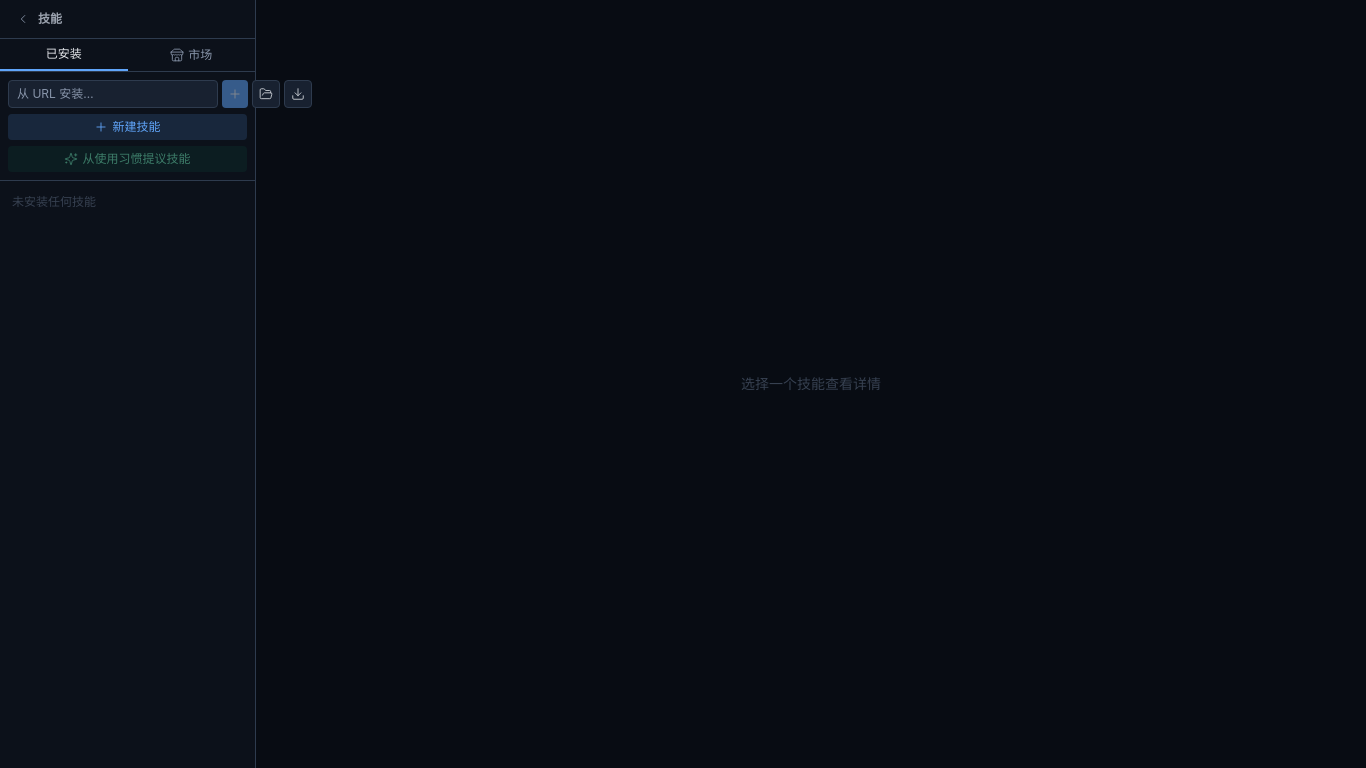
Scenario: Skill lifecycle continuity › blocks approval and requires re-review when content changes after display
Type "https://example.com/skill.json" into the field with placeholder "从 URL 安装…" at (113, 94), box x1=8 y1=80 x2=218 y2=108
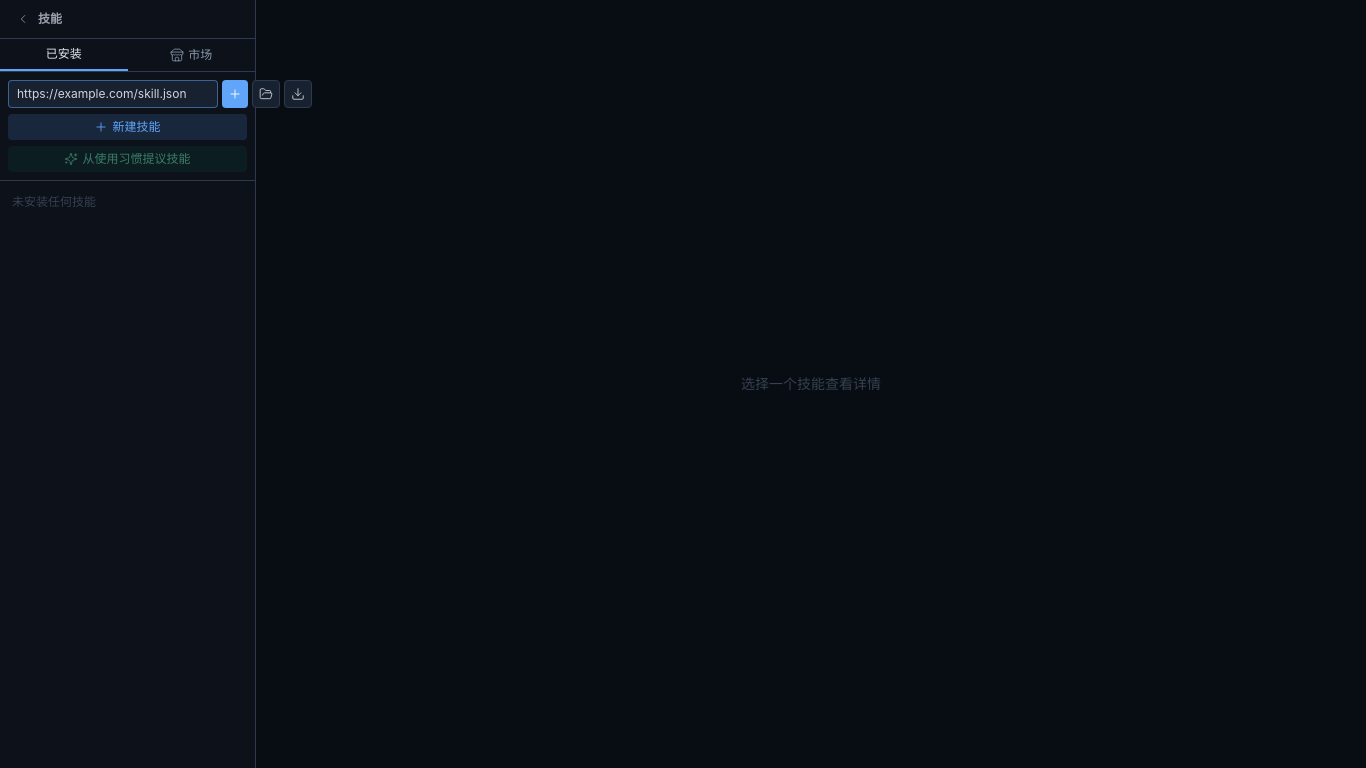
Click the button titled "从 URL 安装技能" at (235, 94), box x1=222 y1=80 x2=248 y2=108
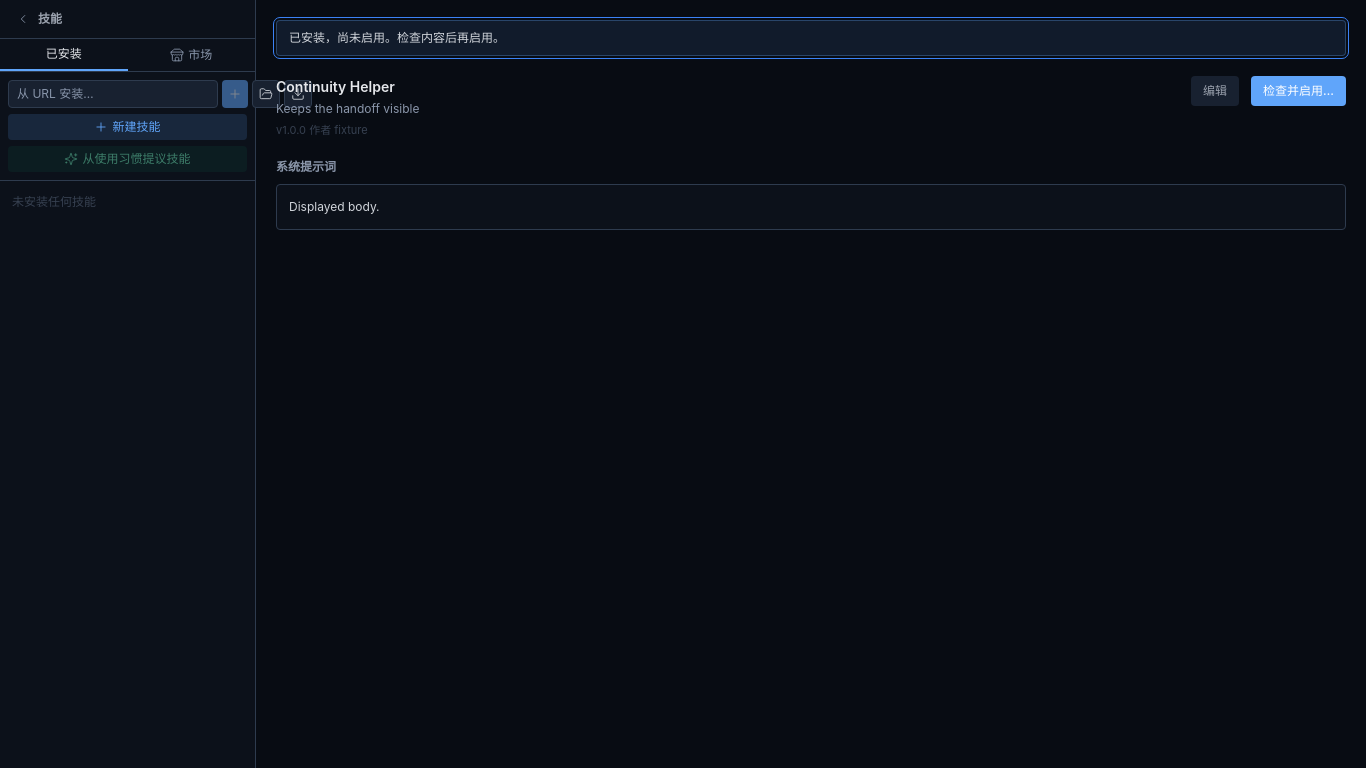
Click the button "检查并启用…" at (1299, 91), box x1=1251 y1=76 x2=1346 y2=106
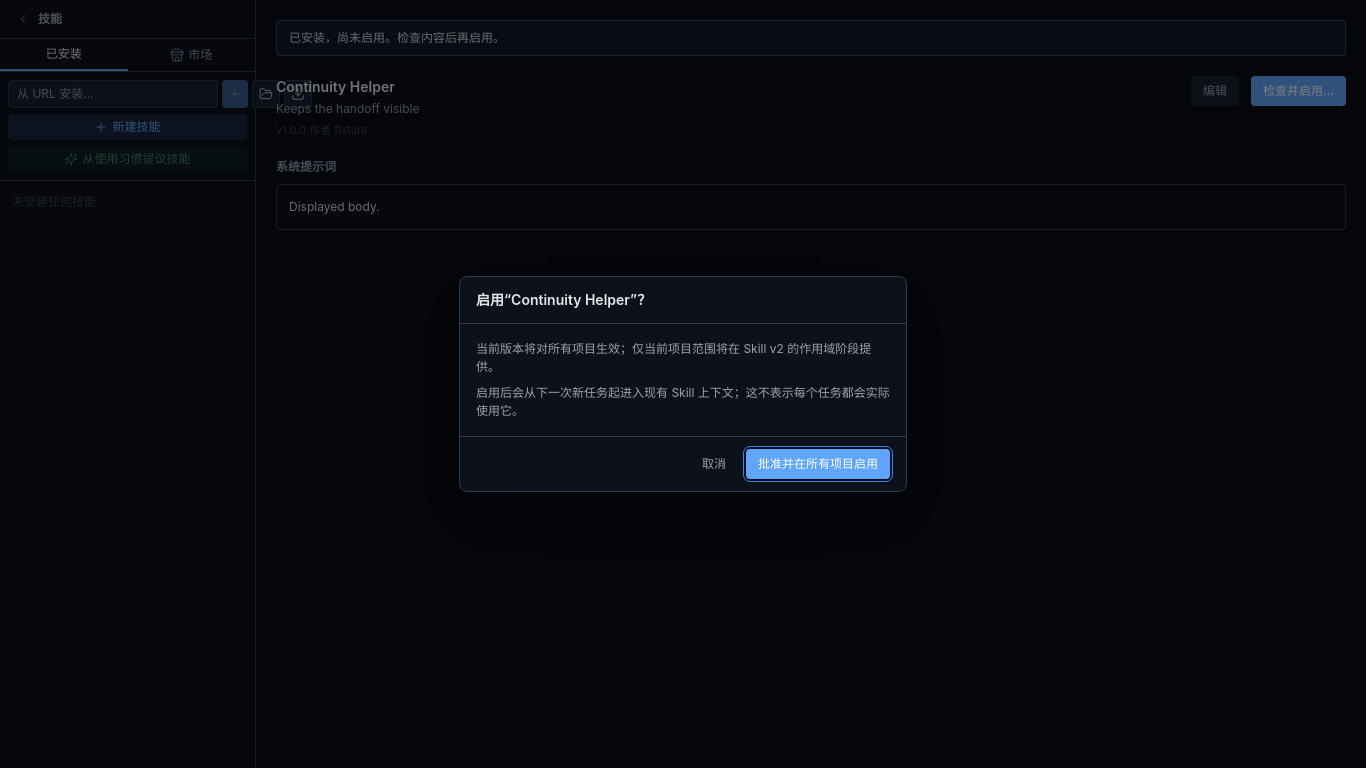
Click the button "批准并在所有项目启用" at (818, 464), box x1=746 y1=449 x2=890 y2=479
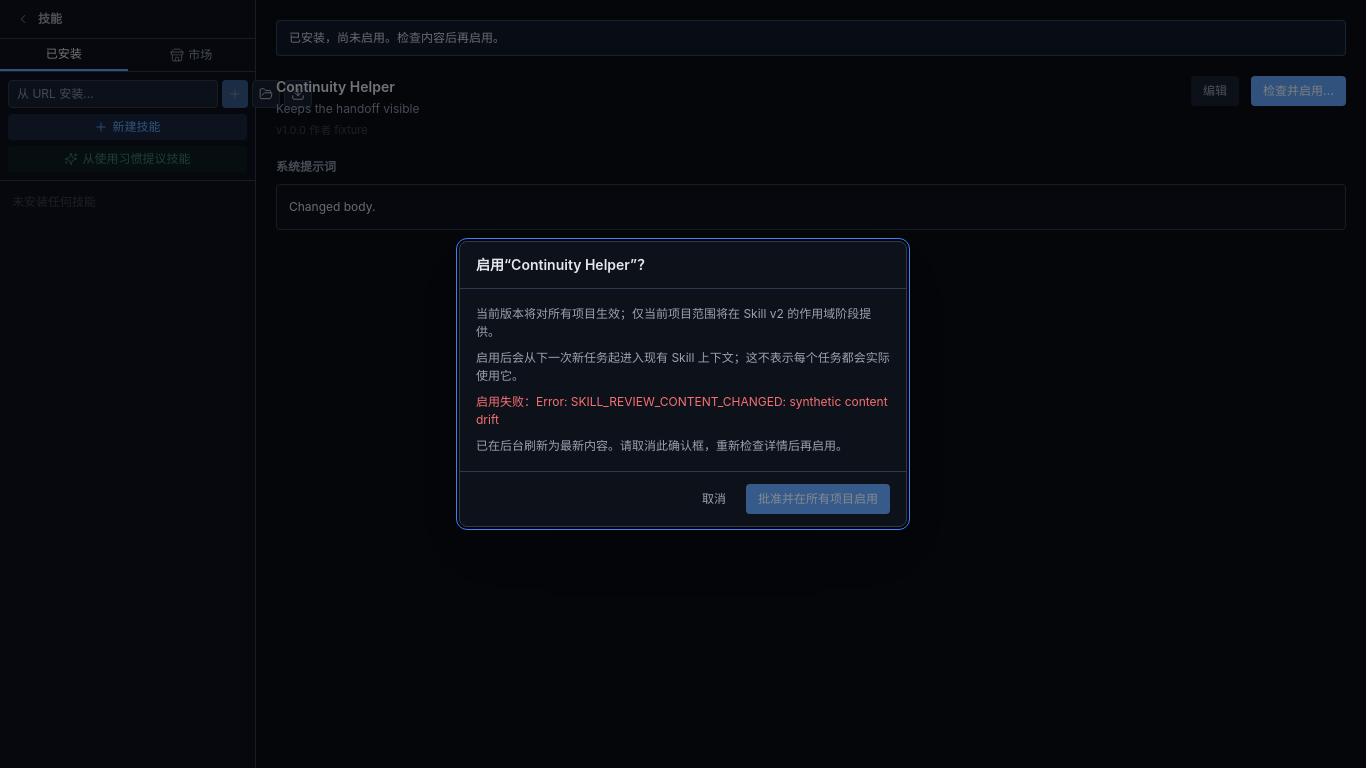
Now the message shows "SKILL_REVIEW_CONTENT_CHANGED", box x1=476 y1=394 x2=891 y2=427
Now the button "批准并在所有项目启用" is disabled, box x1=746 y1=484 x2=890 y2=514
Click the button "取消" at (714, 499), box x1=690 y1=484 x2=738 y2=514
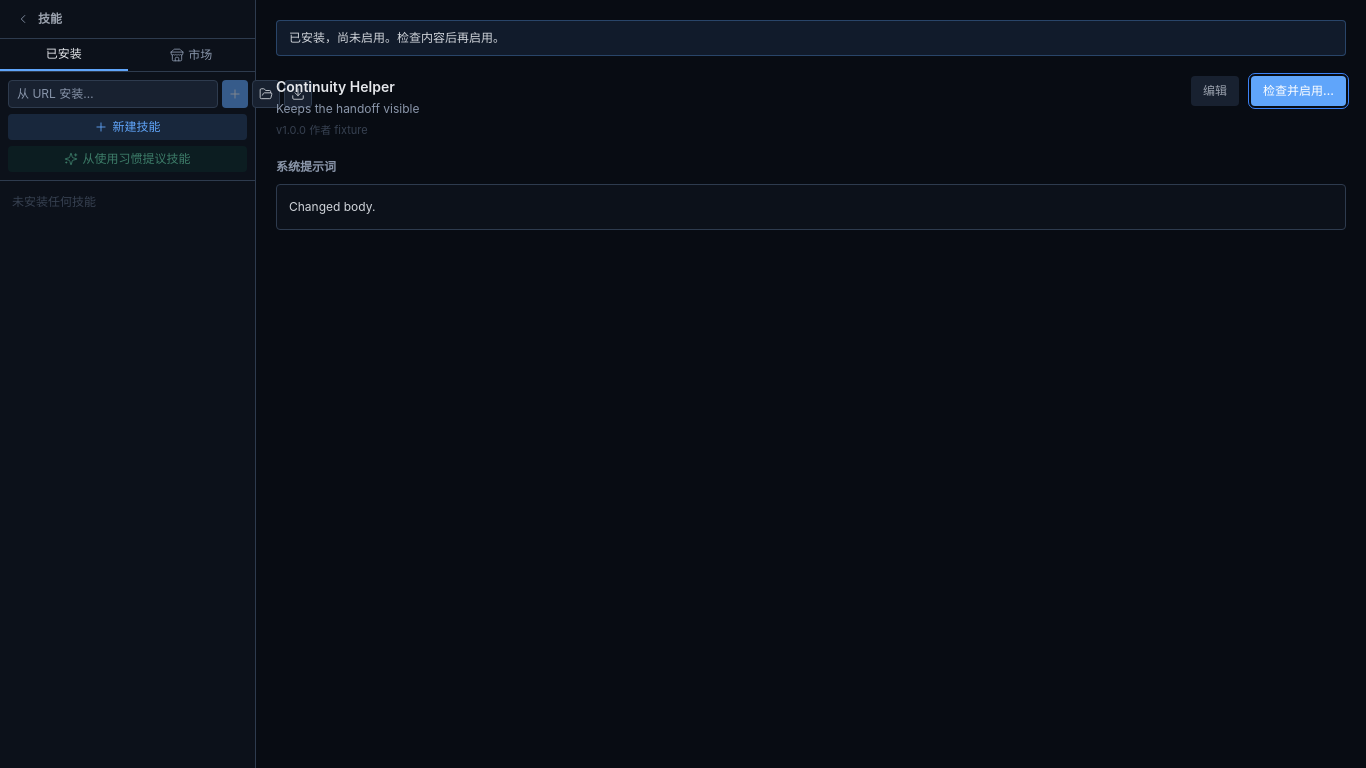
Now the text "Changed body." is shown, box x1=276 y1=184 x2=1346 y2=230
Now the dialog is gone
